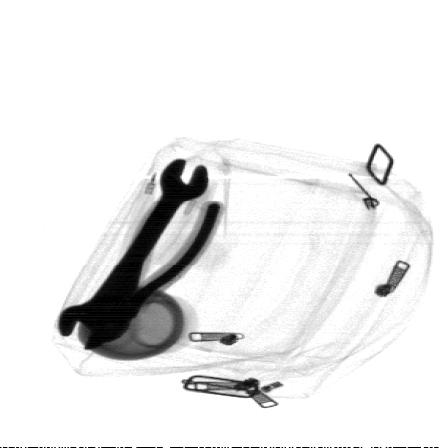Pliers: (92, 199, 224, 345)
Wrench: (58, 158, 210, 349)
